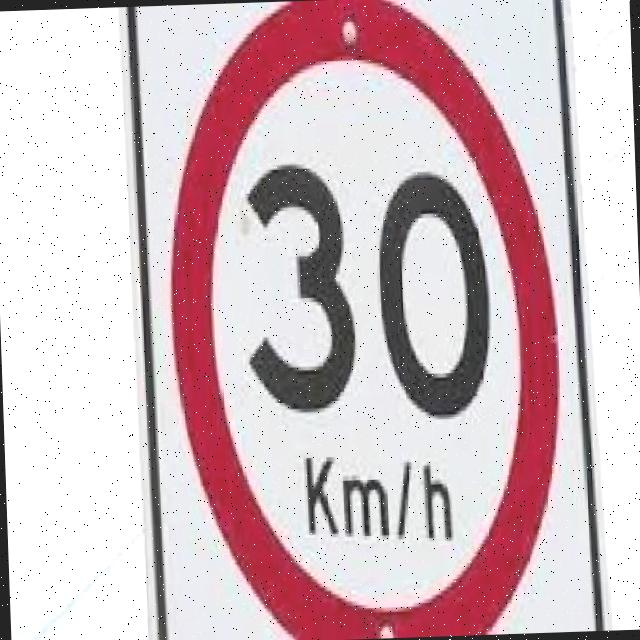Ograniczenie predkosci do 30: (170, 0, 567, 640)
